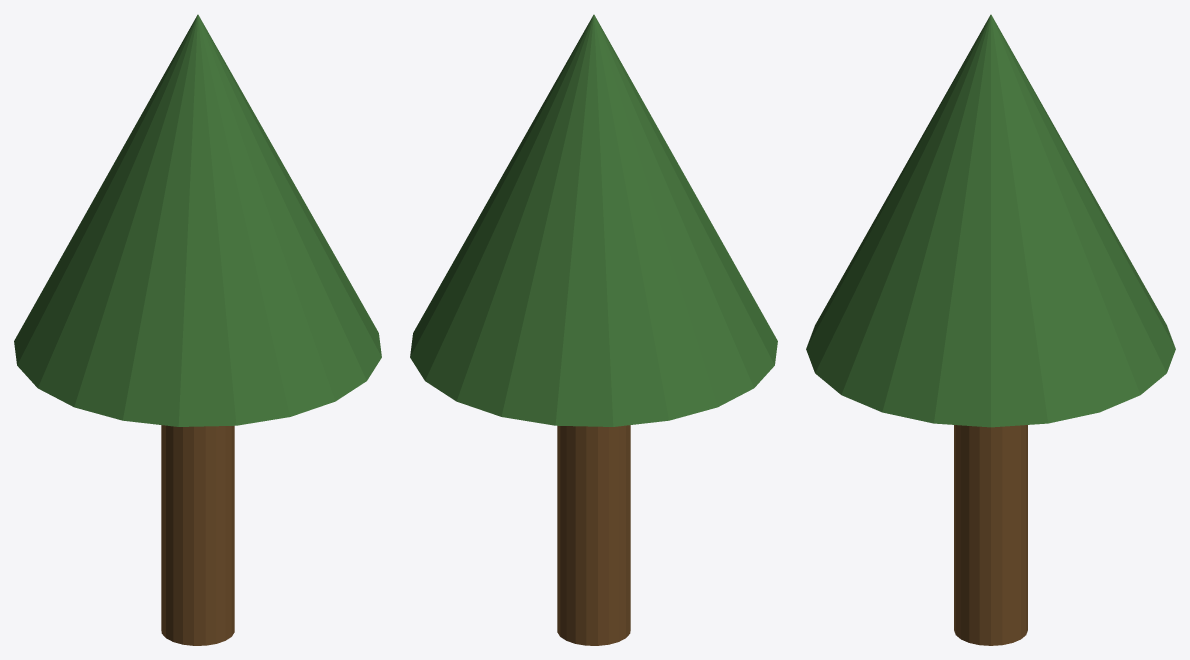
Rendered from tree extended bottom.fbx.
3 renders of one model, left to right at view 1: azimuth 30°, elevation 25°; view 2: azimuth 150°, elevation 25°; view 3: azimuth 270°, elevation 25°, orthographic.
Parts seen in each view (by area): view 1: pCylinder1; view 2: pCylinder1; view 3: pCylinder1.
Part boxes in pixels (x1,y1,x2,y2): pCylinder1: (14, 14, 381, 645); pCylinder1: (410, 14, 777, 645); pCylinder1: (806, 14, 1175, 645).
Size of the model in its own units: 10 by 18.38 by 10.
